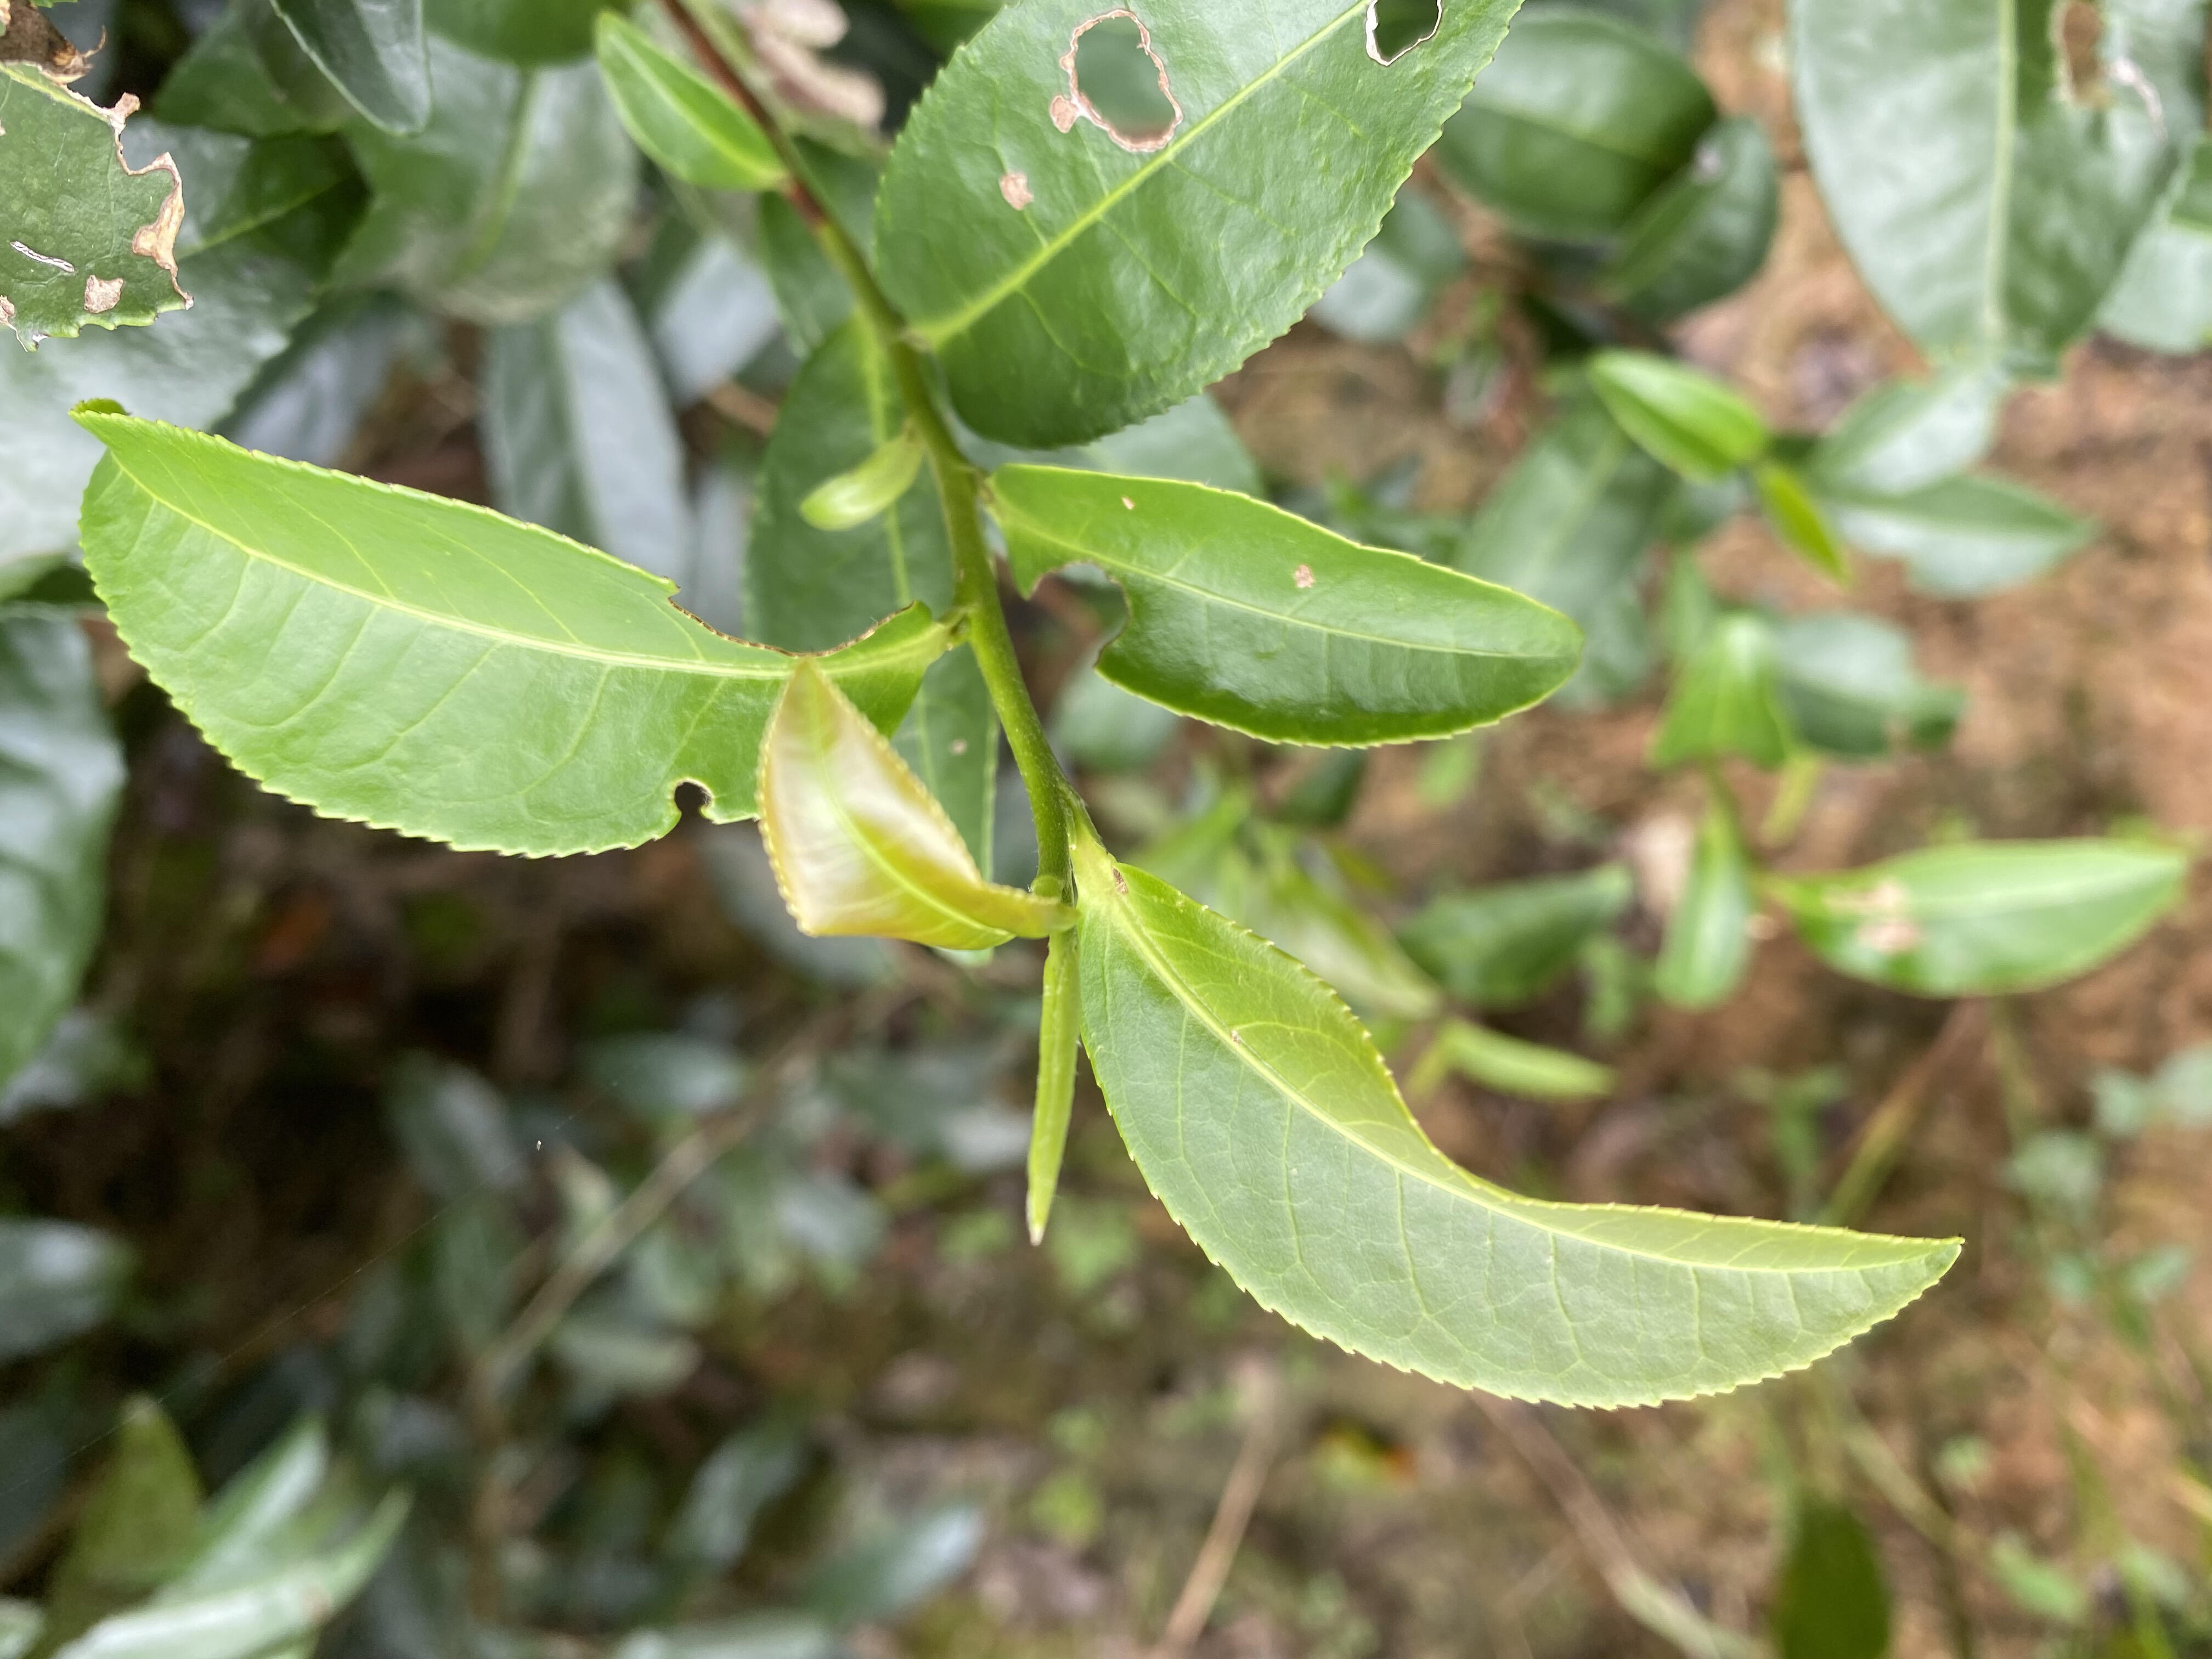chihuo_high: (68, 397, 946, 856), (871, 2, 1524, 450)
chihuo_low: (993, 460, 1588, 753)
healthy: (1076, 859, 1966, 1412)
tanju_high: (2, 2, 195, 350)
tanju_low: (758, 660, 1078, 953)
